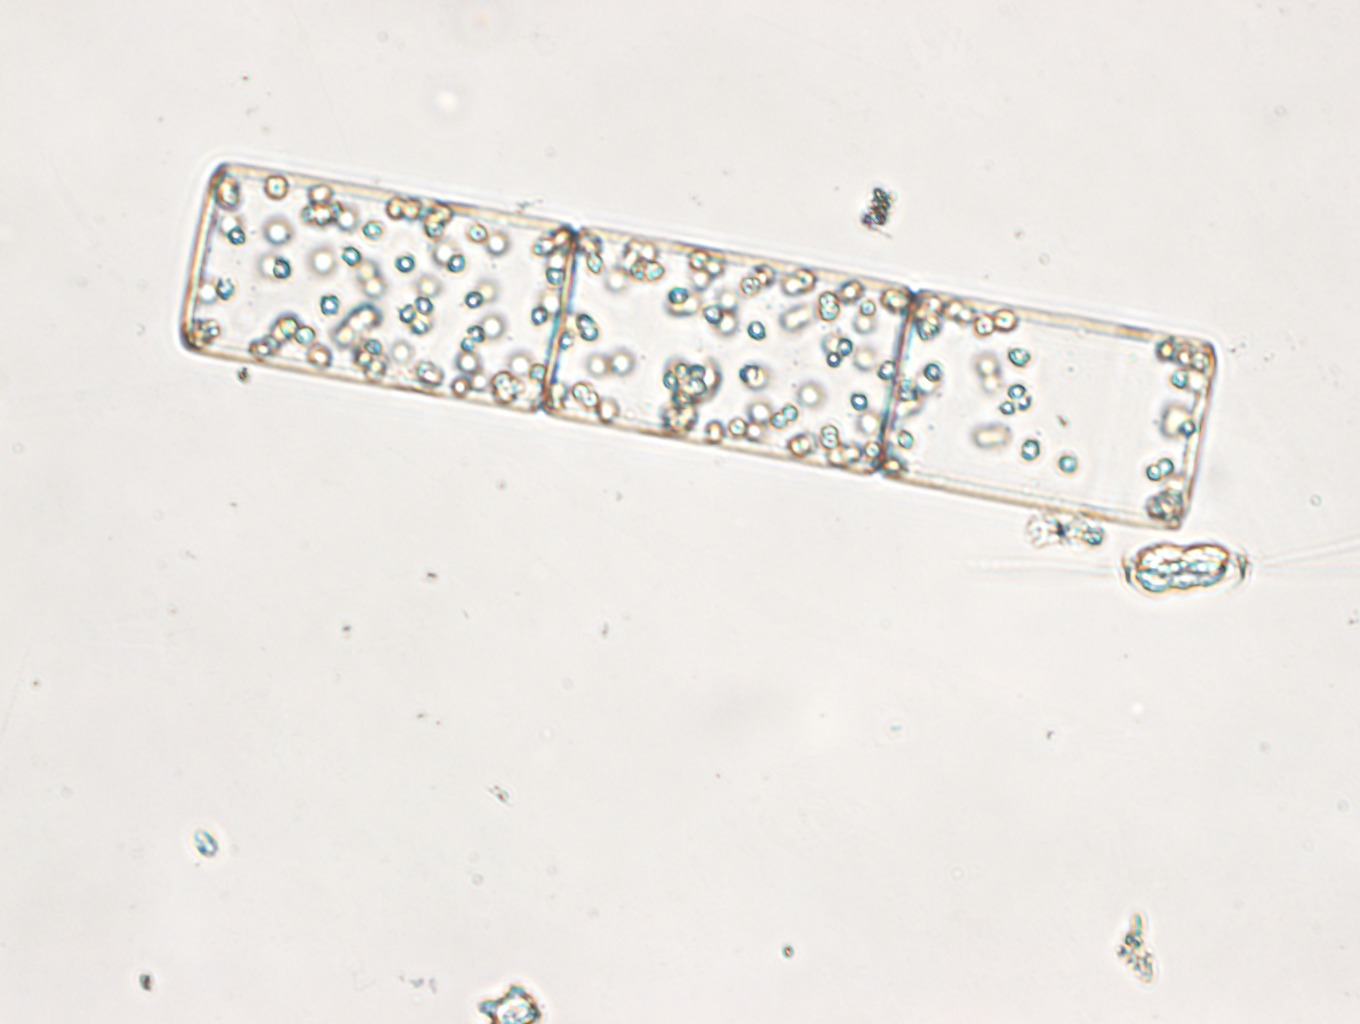chaetoceros: (967, 538, 1360, 598)
guinardia flaccida: (178, 156, 1218, 535)
